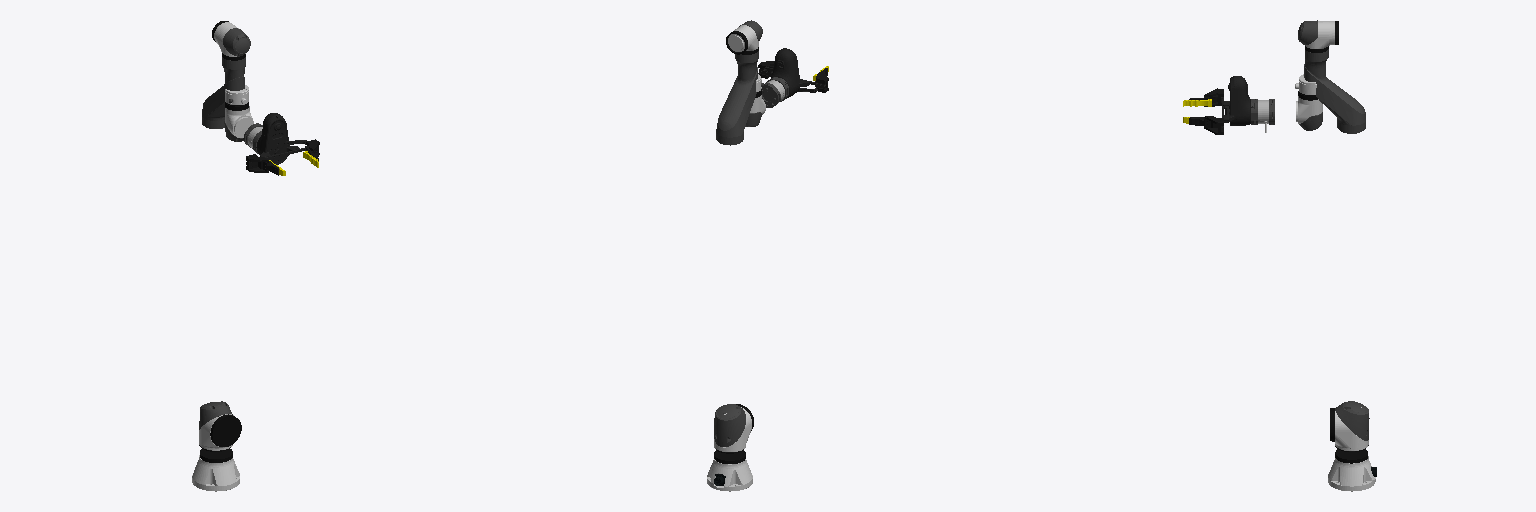
robot.urdf — rb5_850e:
<?xml version="1.0"?>
<!-- GENERATED by rb_servo_server/tools/make_rb5_850e_urdfs.py from
     mo_robot_descriptions rb5_850e.urdf. DO NOT HAND-EDIT: rerun the
     generator, which carries the rationale and the invariants it enforces.
     Elbow bound is the RB5-850 catalog value +/-160 deg and must stay
     equal to safety.q_min_deg/q_max_deg[2] in the stack config. -->
<robot name="rb5_850e">
  <material name="black">
    <color rgba="0.10000000149011612 0.10000000149011612 0.10000000149011612 1.0" />
  </material>
  <material name="gray_30">
    <color rgba="0.30000001192092896 0.30000001192092896 0.30000001192092896 1.0" />
  </material>
  <material name="gray_80">
    <color rgba="0.800000011920929 0.800000011920929 0.800000011920929 1.0" />
  </material>
  <material name="dark_gray">
    <color rgba="0.07227200269699097 0.09084200114011765 0.09758699685335159 1.0" />
  </material>
  <link name="world" />
  <link name="link0">
    <collision>
      <origin xyz="0.0 0.0 0.0" rpy="0.0 0.0 0.0" />
      <geometry>
        <mesh filename="../meshes/robots/rb5_850e/collision/link0_hull.stl" scale="1.0 1.0 1.0" />
      </geometry>
    </collision>
    <visual>
      <origin xyz="0.0 0.0 0.0" rpy="0.0 0.0 0.0" />
      <geometry>
        <mesh filename="../meshes/robots/rb5_850e/visual/link0.dae" scale="1.0 1.0 1.0" />
      </geometry>
    </visual>
  </link>
  <link name="link1">
    <inertial>
      <origin xyz="5.7e-05 -0.005795 -0.034516" rpy="-0.008814292233803145 -0.5211078416976862 1.5922499118127411" />
      <mass value="4.147" />
      <inertia ixx="0.00940157" iyy="0.00878691" izz="0.0073332" ixy="0" ixz="0" iyz="0" />
    </inertial>
    <collision>
      <origin xyz="0.0 0.0 0.0" rpy="0.0 0.0 0.0" />
      <geometry>
        <mesh filename="../meshes/robots/rb5_850e/collision/link1_hull.stl" scale="1.0 1.0 1.0" />
      </geometry>
    </collision>
    <visual>
      <origin xyz="0.0 0.0 0.0" rpy="0.0 0.0 0.0" />
      <geometry>
        <mesh filename="../meshes/robots/rb5_850e/visual/link1.dae" scale="1.0 1.0 1.0" />
      </geometry>
    </visual>
  </link>
  <link name="link2">
    <inertial>
      <origin xyz="-3.7e-05 -0.121603 0.212933" rpy="0.0006961164728782317 0.00015759091710432216 -0.004462031132023501" />
      <mass value="9.633" />
      <inertia ixx="0.392214" iyy="0.388915" izz="0.0219492" ixy="0" ixz="0" iyz="0" />
    </inertial>
    <collision>
      <origin xyz="0.0 0.0 0.0" rpy="0.0 0.0 0.0" />
      <geometry>
        <mesh filename="../meshes/robots/rb5_850e/collision/link2/link2_hull_000.stl" scale="1.0 1.0 1.0" />
      </geometry>
    </collision>
    <collision>
      <origin xyz="0.0 0.0 0.0" rpy="0.0 0.0 0.0" />
      <geometry>
        <mesh filename="../meshes/robots/rb5_850e/collision/link2/link2_hull_001.stl" scale="1.0 1.0 1.0" />
      </geometry>
    </collision>
    <collision>
      <origin xyz="0.0 0.0 0.0" rpy="0.0 0.0 0.0" />
      <geometry>
        <mesh filename="../meshes/robots/rb5_850e/collision/link2/link2_hull_002.stl" scale="1.0 1.0 1.0" />
      </geometry>
    </collision>
    <visual>
      <origin xyz="0.0 0.0 0.0" rpy="0.0 0.0 0.0" />
      <geometry>
        <mesh filename="../meshes/robots/rb5_850e/visual/link2.dae" scale="1.0 1.0 1.0" />
      </geometry>
    </visual>
  </link>
  <link name="link3">
    <inertial>
      <origin xyz="2.1e-05 -0.015845 0.202568" rpy="0.020068695886788702 -7.383018093309879e-05 -0.0034094548153021514" />
      <mass value="3.915" />
      <inertia ixx="0.11204" iyy="0.111832" izz="0.0075271" ixy="0" ixz="0" iyz="0" />
    </inertial>
    <collision>
      <origin xyz="0.0 0.0 0.0" rpy="0.0 0.0 0.0" />
      <geometry>
        <mesh filename="../meshes/robots/rb5_850e/collision/link3/link3_hull_000.stl" scale="1.0 1.0 1.0" />
      </geometry>
    </collision>
    <collision>
      <origin xyz="0.0 0.0 0.0" rpy="0.0 0.0 0.0" />
      <geometry>
        <mesh filename="../meshes/robots/rb5_850e/collision/link3/link3_hull_001.stl" scale="1.0 1.0 1.0" />
      </geometry>
    </collision>
    <collision>
      <origin xyz="0.0 0.0 0.0" rpy="0.0 0.0 0.0" />
      <geometry>
        <mesh filename="../meshes/robots/rb5_850e/collision/link3/link3_hull_002.stl" scale="1.0 1.0 1.0" />
      </geometry>
    </collision>
    <visual>
      <origin xyz="0.0 0.0 0.0" rpy="0.0 0.0 0.0" />
      <geometry>
        <mesh filename="../meshes/robots/rb5_850e/visual/link3.dae" scale="1.0 1.0 1.0" />
      </geometry>
    </visual>
  </link>
  <link name="link4">
    <inertial>
      <origin xyz="5.7e-05 -0.106332 0.025881" rpy="0.3262020582124402 -0.0054086570832456715 0.015312755011589768" />
      <mass value="1.452" />
      <inertia ixx="0.00162904" iyy="0.00160108" izz="0.00118182" ixy="0" ixz="0" iyz="0" />
    </inertial>
    <collision>
      <origin xyz="0.0 0.0 0.0" rpy="0.0 0.0 0.0" />
      <geometry>
        <mesh filename="../meshes/robots/rb5_850e/collision/link4_hull.stl" scale="1.0 1.0 1.0" />
      </geometry>
    </collision>
    <visual>
      <origin xyz="0.0 0.0 0.0" rpy="0.0 0.0 0.0" />
      <geometry>
        <mesh filename="../meshes/robots/rb5_850e/visual/link4.dae" scale="1.0 1.0 1.0" />
      </geometry>
    </visual>
  </link>
  <link name="link5">
    <inertial>
      <origin xyz="-2.8e-05 -0.025911 -0.004363" rpy="1.2443210934733502 -0.025114063932295094 0.012276846270029451" />
      <mass value="1.454" />
      <inertia ixx="0.00163147" iyy="0.00160354" izz="0.00118381" ixy="0" ixz="0" iyz="0" />
    </inertial>
    <collision>
      <origin xyz="0.0 0.0 0.0" rpy="0.0 0.0 0.0" />
      <geometry>
        <mesh filename="../meshes/robots/rb5_850e/collision/link5_hull.stl" scale="1.0 1.0 1.0" />
      </geometry>
    </collision>
    <visual>
      <origin xyz="0.0 0.0 0.0" rpy="0.0 0.0 0.0" />
      <geometry>
        <mesh filename="../meshes/robots/rb5_850e/visual/link5.dae" scale="1.0 1.0 1.0" />
      </geometry>
    </visual>
  </link>
  <link name="link6">
    <inertial>
      <origin xyz="-2e-06 -0.079964 -0.000494" rpy="-0.11536430816546306 0.0054491524437931815 1.5682675506147996" />
      <mass value="0.243" />
      <inertia ixx="0.000243707" iyy="0.000147897" izz="0.000142261" ixy="0" ixz="0" iyz="0" />
    </inertial>
    <collision>
      <origin xyz="0.0 0.0 0.0" rpy="0.0 0.0 0.0" />
      <geometry>
        <mesh filename="../meshes/robots/rb5_850e/collision/link6_hull.stl" scale="1.0 1.0 1.0" />
      </geometry>
    </collision>
    <visual>
      <origin xyz="0.0 0.0 0.0" rpy="0.0 0.0 0.0" />
      <geometry>
        <mesh filename="../meshes/robots/rb5_850e/visual/link6.dae" scale="1.0 1.0 1.0" />
      </geometry>
    </visual>
  </link>
  <link name="tcp">
    </link>
  <link name="attachment_site">
    </link>
  <joint name="tcp_joint" type="fixed">
    <parent link="attachment_site" />
    <child link="tcp" />
    <origin xyz="0.0 0.0 0.247642" rpy="0.0 0.0 0.0" />
  </joint>
  <joint name="attachment_site_joint" type="fixed">
    <parent link="link6" />
    <child link="attachment_site" />
    <origin xyz="0.0 -0.0967 0.0" rpy="1.57 0.0 0.0" />
  </joint>
  <joint name="link0_fixed" type="fixed">
    <parent link="world" />
    <child link="link0" />
    <origin xyz="0.0 0.0 0.0" rpy="0.0 0.0 0.0" />
  </joint>
  <joint name="base_joint" type="revolute">
    <parent link="link0" />
    <child link="link1" />
    <origin xyz="0.0 0.0 0.1692" rpy="0.0 0.0 0.0" />
    <axis xyz="0.0 0.0 1.0" />
    <limit lower="-6.28319" upper="6.28319" effort="20000.0" velocity="3.141592653589793" />
  </joint>
  <joint name="shoulder_joint" type="revolute">
    <parent link="link1" />
    <child link="link2" />
    <origin xyz="0.0 0.0 0.0" rpy="0.0 0.0 0.0" />
    <axis xyz="0.0 1.0 0.0" />
    <limit lower="-6.28319" upper="6.28319" effort="20000.0" velocity="3.141592653589793" />
  </joint>
  <joint name="elbow_joint" type="revolute">
    <parent link="link2" />
    <child link="link3" />
    <origin xyz="0.0 0.0 0.425" rpy="0.0 0.0 0.0" />
    <axis xyz="0.0 1.0 0.0" />
    <limit lower="-2.792527" upper="2.792527" effort="0.0" velocity="3.141592653589793" />
  </joint>
  <joint name="wrist1_joint" type="revolute">
    <parent link="link3" />
    <child link="link4" />
    <origin xyz="0.0 0.0 0.392" rpy="0.0 0.0 0.0" />
    <axis xyz="0.0 1.0 0.0" />
    <limit lower="-6.28319" upper="6.28319" effort="20000.0" velocity="3.141592653589793" />
  </joint>
  <joint name="wrist2_joint" type="revolute">
    <parent link="link4" />
    <child link="link5" />
    <origin xyz="0.0 -0.1107 0.1107" rpy="0.0 0.0 0.0" />
    <axis xyz="0.0 0.0 1.0" />
    <limit lower="-6.28319" upper="6.28319" effort="20000.0" velocity="3.141592653589793" />
  </joint>
  <joint name="wrist3_joint" type="revolute">
    <parent link="link5" />
    <child link="link6" />
    <origin xyz="0.0 0.0 0.0" rpy="0.0 0.0 0.0" />
    <axis xyz="0.0 1.0 0.0" />
    <limit lower="-6.28319" upper="6.28319" effort="20000.0" velocity="3.141592653589793" />
  </joint>
  <link name="ft_sensor_base" />
  <link name="ft_sensor_measurement" />
  <link name="tool">
    <visual>
      <origin xyz="0.0 0.0 0.0" rpy="0.0 0.0 0.0" />
      <geometry>
        <mesh filename="../meshes/robots/rb5_850e/visual/tool/pika_gripper_mount.STL" scale="0.001 0.001 0.001" />
      </geometry>
      <material name="mount_grey" />
    </visual>
    <visual>
      <origin xyz="0.0 0.0 0.0" rpy="0.0 0.0 0.0" />
      <geometry>
        <mesh filename="../meshes/robots/rb5_850e/visual/tool/pika_gripper_ft_sensor.STL" scale="0.001 0.001 0.001" />
      </geometry>
      <material name="ft_sensor_grey" />
    </visual>
    <visual>
      <origin xyz="0.0 0.0 0.0" rpy="0.0 0.0 0.0" />
      <geometry>
        <mesh filename="../meshes/robots/rb5_850e/visual/tool/pika_gripper_body.STL" scale="0.001 0.001 0.001" />
      </geometry>
      <material name="gripper_black" />
    </visual>
  </link>
  <joint name="ft_sensor_base_joint" type="fixed">
    <parent link="attachment_site" />
    <child link="ft_sensor_base" />
    <origin xyz="0.0 0.0 0.015" rpy="0.0 0.0 1.5707963267948966" />
  </joint>
  <joint name="ft_sensor_measurement_joint" type="fixed">
    <parent link="ft_sensor_base" />
    <child link="ft_sensor_measurement" />
    <origin xyz="0.0 0.0 0.03" rpy="0.0 0.0 0.0" />
  </joint>
  <joint name="tool_joint" type="fixed">
    <parent link="attachment_site" />
    <child link="tool" />
    <origin xyz="0.0 0.0 0.0" rpy="0.0 0.0 0.0" />
  </joint>
  <material name="mount_grey">
    <color rgba="0.3 0.3 0.3 1.0" />
  </material>
  <material name="ft_sensor_grey">
    <color rgba="0.72 0.72 0.72 1.0" />
  </material>
  <material name="gripper_black">
    <color rgba="0.17 0.17 0.17 1.0" />
  </material>
  <material name="pla_black">
    <color rgba="0.13 0.13 0.13 1.0" />
  </material>
  <material name="tpu_95a_yellow">
    <color rgba="0.95294118 0.902 0.0 1.0" />
  </material>
  <link name="finger_left">
    <visual>
      <origin xyz="0.0 0.0 0.0" rpy="0.0 0.0 0.0" />
      <geometry>
        <mesh filename="../meshes/robots/rb5_850e/visual/tool/pika_finger_left_pla.STL" scale="0.001 0.001 0.001" />
      </geometry>
      <material name="pla_black" />
    </visual>
    <visual>
      <origin xyz="0.0 0.0 0.0" rpy="0.0 0.0 0.0" />
      <geometry>
        <mesh filename="../meshes/robots/rb5_850e/visual/tool/pika_finger_left_tpu.STL" scale="0.001 0.001 0.001" />
      </geometry>
      <material name="tpu_95a_yellow" />
    </visual>
  </link>
  <link name="finger_right">
    <visual>
      <origin xyz="0.0 0.0 0.0" rpy="0.0 0.0 0.0" />
      <geometry>
        <mesh filename="../meshes/robots/rb5_850e/visual/tool/pika_finger_right_pla.STL" scale="0.001 0.001 0.001" />
      </geometry>
      <material name="pla_black" />
    </visual>
    <visual>
      <origin xyz="0.0 0.0 0.0" rpy="0.0 0.0 0.0" />
      <geometry>
        <mesh filename="../meshes/robots/rb5_850e/visual/tool/pika_finger_right_tpu.STL" scale="0.001 0.001 0.001" />
      </geometry>
      <material name="tpu_95a_yellow" />
    </visual>
  </link>
  <joint name="finger_left_joint" type="prismatic">
    <parent link="attachment_site" />
    <child link="finger_left" />
    <origin xyz="0.0 0.0 0.0" rpy="0.0 0.0 0.0" />
    <axis xyz="1.0 0.0 0.0" />
    <limit lower="0.0" upper="0.049" effort="20.0" velocity="0.5" />
  </joint>
  <joint name="finger_right_joint" type="prismatic">
    <parent link="attachment_site" />
    <child link="finger_right" />
    <origin xyz="0.0 0.0 0.0" rpy="0.0 0.0 0.0" />
    <axis xyz="1.0 0.0 0.0" />
    <limit lower="-0.049" upper="0.0" effort="20.0" velocity="0.5" />
  </joint>
</robot>

--- What the picture shows (computed from the rendered views, not written in the file) ---
Views: 3 orthographic renders of the robot side by side, from view 1: azimuth 30°, elevation 25°; view 2: azimuth 150°, elevation 25°; view 3: azimuth 270°, elevation 25°.
Robot: rb5_850e — 15 links, 14 joints (6 revolute, 2 prismatic, 6 fixed); root link world; default pose: all joints at 0.
Visible links, largest first — view 1: link4, tool, link1, link0, link5; view 2: link4, tool, link1, link0; view 3: link4, tool, link1, link0, link5.
Boxes of the visible links, bbox=[...] form: link4: bbox=[202, 21, 250, 128]; tool: bbox=[244, 113, 306, 164]; link1: bbox=[199, 401, 241, 451]; link0: bbox=[192, 449, 239, 491]; link5: bbox=[224, 103, 253, 141]; link4: bbox=[716, 20, 762, 145]; tool: bbox=[759, 48, 825, 107]; link1: bbox=[714, 404, 753, 453]; link0: bbox=[707, 450, 752, 491]; link4: bbox=[1298, 20, 1365, 133]; tool: bbox=[1221, 76, 1274, 132]; link1: bbox=[1330, 401, 1369, 451]; link0: bbox=[1328, 449, 1376, 491]; link5: bbox=[1296, 91, 1322, 130].
Size in the robot's own frame: 0.2157 by 0.5237 by 1.36 metres.
12 mesh visuals loaded from 14 distinct referenced files (7 binary STL, 5 Collada DAE); not drawn: 2 (reference not matched to a file when rendering).
